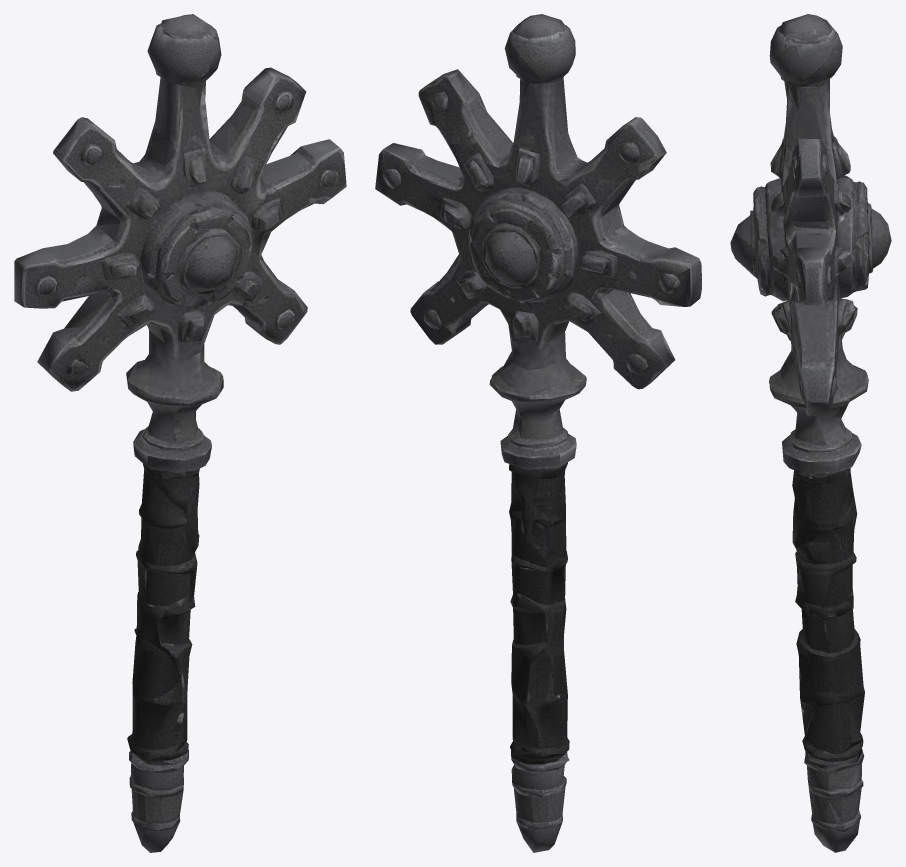
Rendered from weapon-mace.glb.
The picture shows the model from 3 angles, left to right: view 1: azimuth 30°, elevation 25°; view 2: azimuth 150°, elevation 25°; view 3: azimuth 270°, elevation 25°; orthographic projection. The views are drawn at different scales.
Bounding box in the file's own units: 0.2431 × 0.6007 × 0.1044.
1 material, 1 textured.
